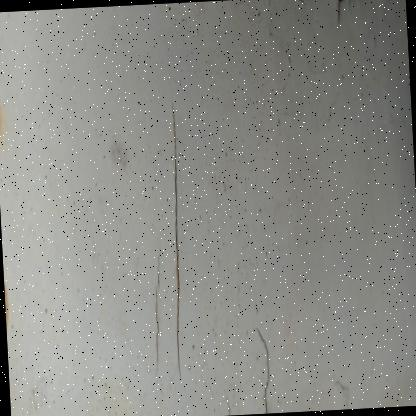Crack: (124, 44, 218, 388), (233, 278, 296, 414), (280, 0, 393, 35)
